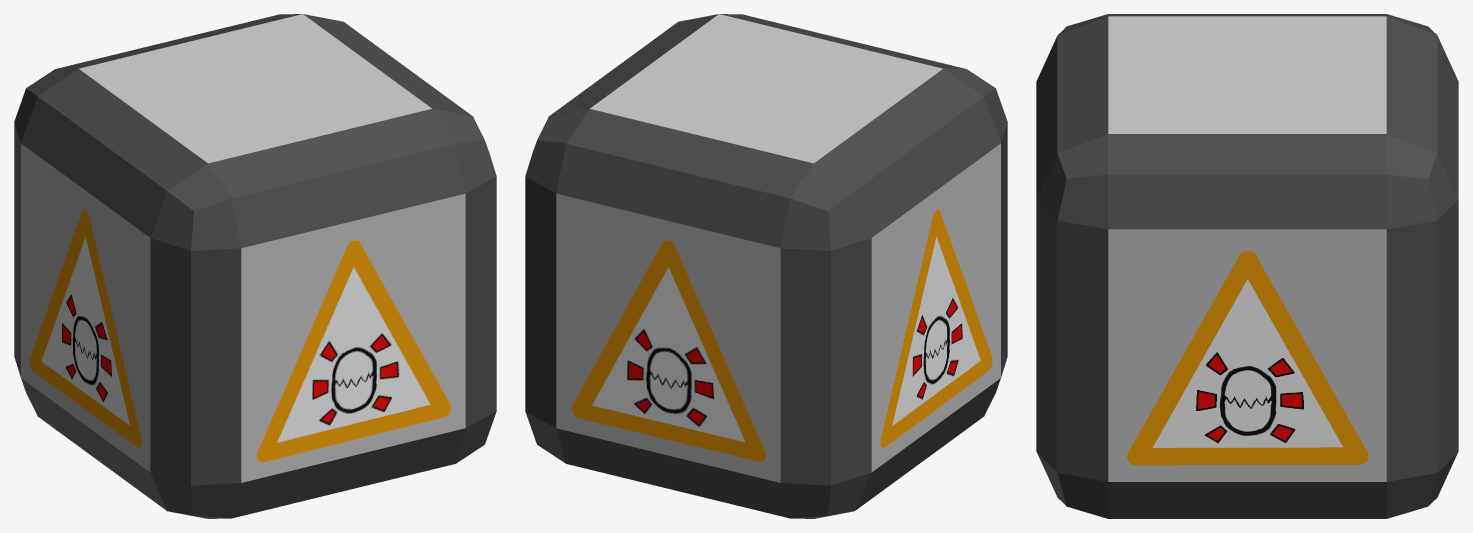
File: Basic_Egg.fbx
The picture shows the model from 3 angles, left to right: view 1: azimuth 30°, elevation 25°; view 2: azimuth 150°, elevation 25°; view 3: azimuth 270°, elevation 25°; orthographic projection. The views are drawn at different scales.
Visible parts, largest first — view 1: Cube; view 2: Cube; view 3: Cube.
Boxes of the visible parts, bbox=[...] form: Cube: bbox=[14, 14, 496, 518]; Cube: bbox=[525, 14, 1007, 518]; Cube: bbox=[1036, 14, 1458, 518].
Size of the model in its own units: 200 by 200 by 200.
